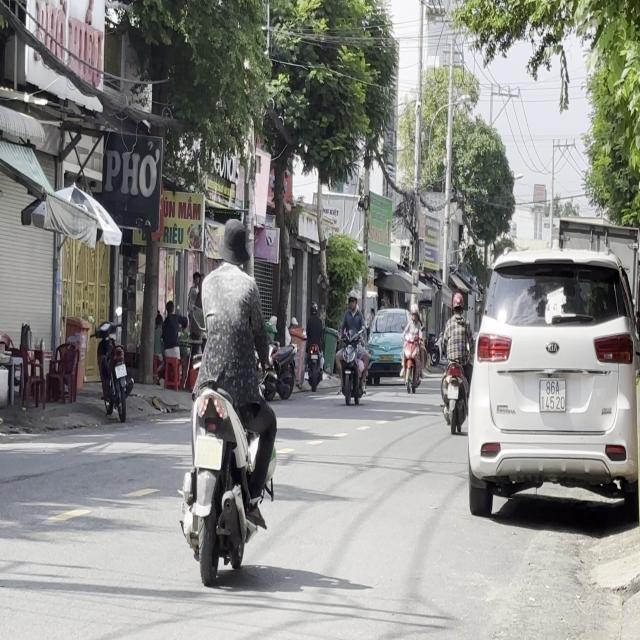licenseplate: (179, 213, 279, 580)
motorcyclist: (220, 217, 248, 268)
nohelmet: (194, 436, 222, 470)
